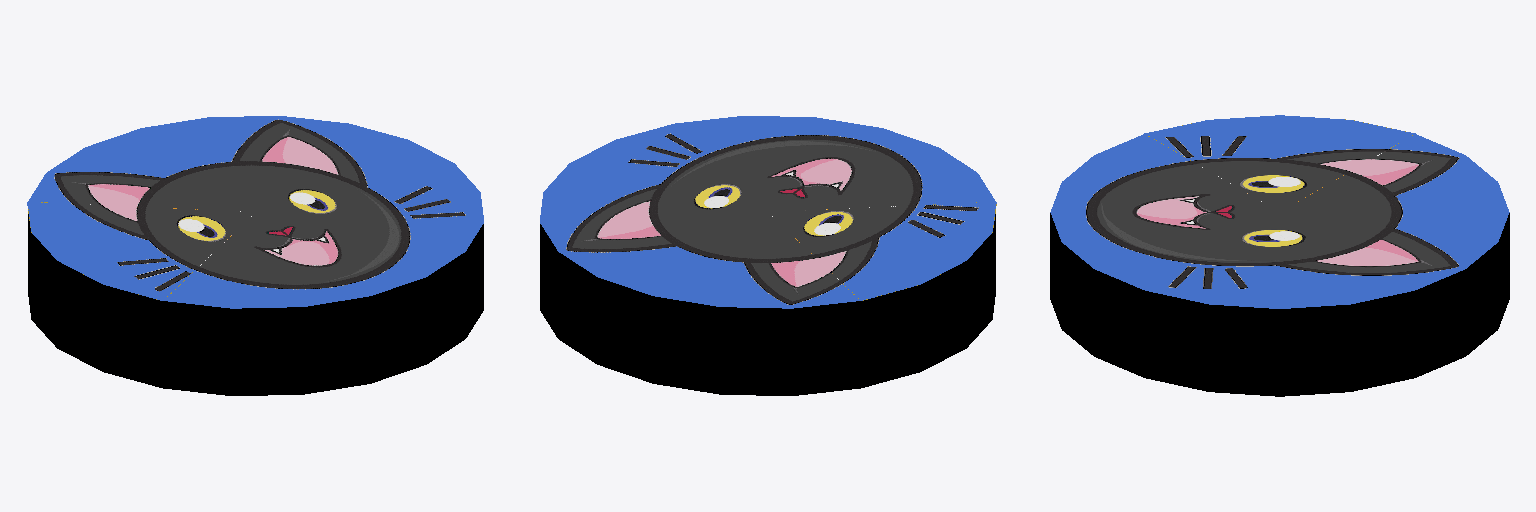
3 renders of one model, left to right at view 1: azimuth 30°, elevation 25°; view 2: azimuth 150°, elevation 25°; view 3: azimuth 270°, elevation 25°, orthographic.
Parts seen in each view (by area): view 1: pCylinder1; view 2: pCylinder1; view 3: pCylinder1.
Part boxes in pixels (x1,y1,x2,y2): pCylinder1: (27, 116, 483, 395); pCylinder1: (540, 116, 996, 395); pCylinder1: (1050, 115, 1509, 396).
Size of the model in its own units: 3.53 by 0.7437 by 3.53.
Materials: 4 (2 with a texture image).